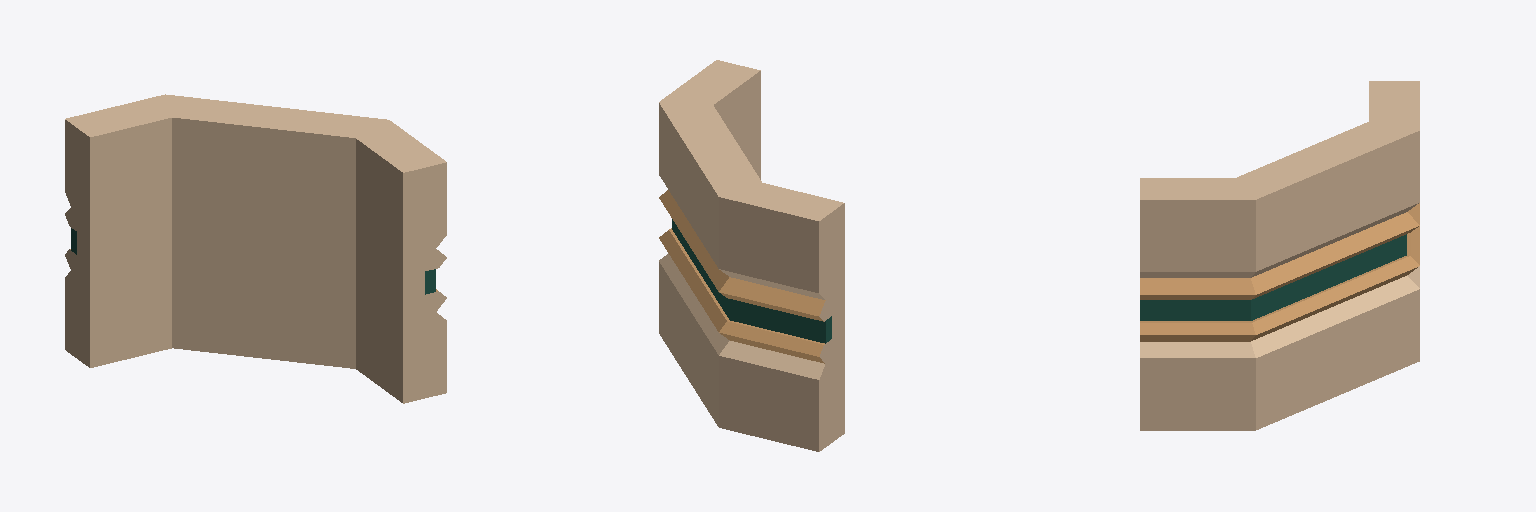
The model's file is Puzzle_Wall_Conduit_Path_Curved_Small_Outer.obj.
3 renders of one model, left to right at view 1: azimuth 30°, elevation 25°; view 2: azimuth 150°, elevation 25°; view 3: azimuth 270°, elevation 25°, orthographic.
Visible parts, largest first — view 1: object2; view 2: object2, object1; view 3: object2, object1.
Part boxes in pixels (x1,y1,x2,y2): object2: (65,94,446,403); object2: (659,60,844,451); object1: (672,219,831,343); object2: (1140,81,1419,430); object1: (1140,234,1406,320).
Bounding box in the file's own units: 1.1 × 1 × 1.1.